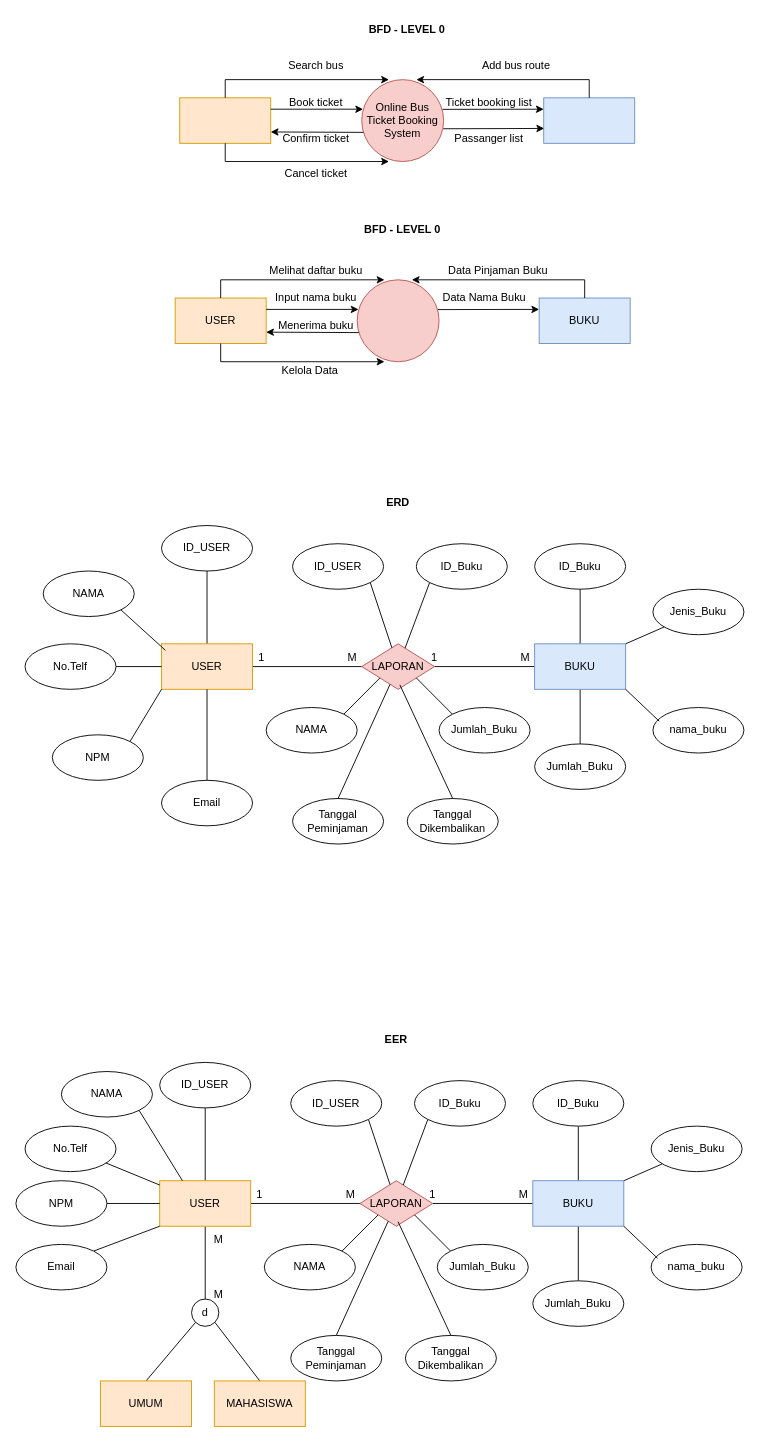
The diagram is 760 pixels wide and 1442 high, and some of its shapes have lost their labels. Here are the shapes that lost their labels. From the top down, the box of each, then its label:
(179, 97, 271, 143): Customer
(543, 97, 635, 143): Admin
(356, 279, 439, 362): Sistem Peminjaman Buku Perpustakaan
